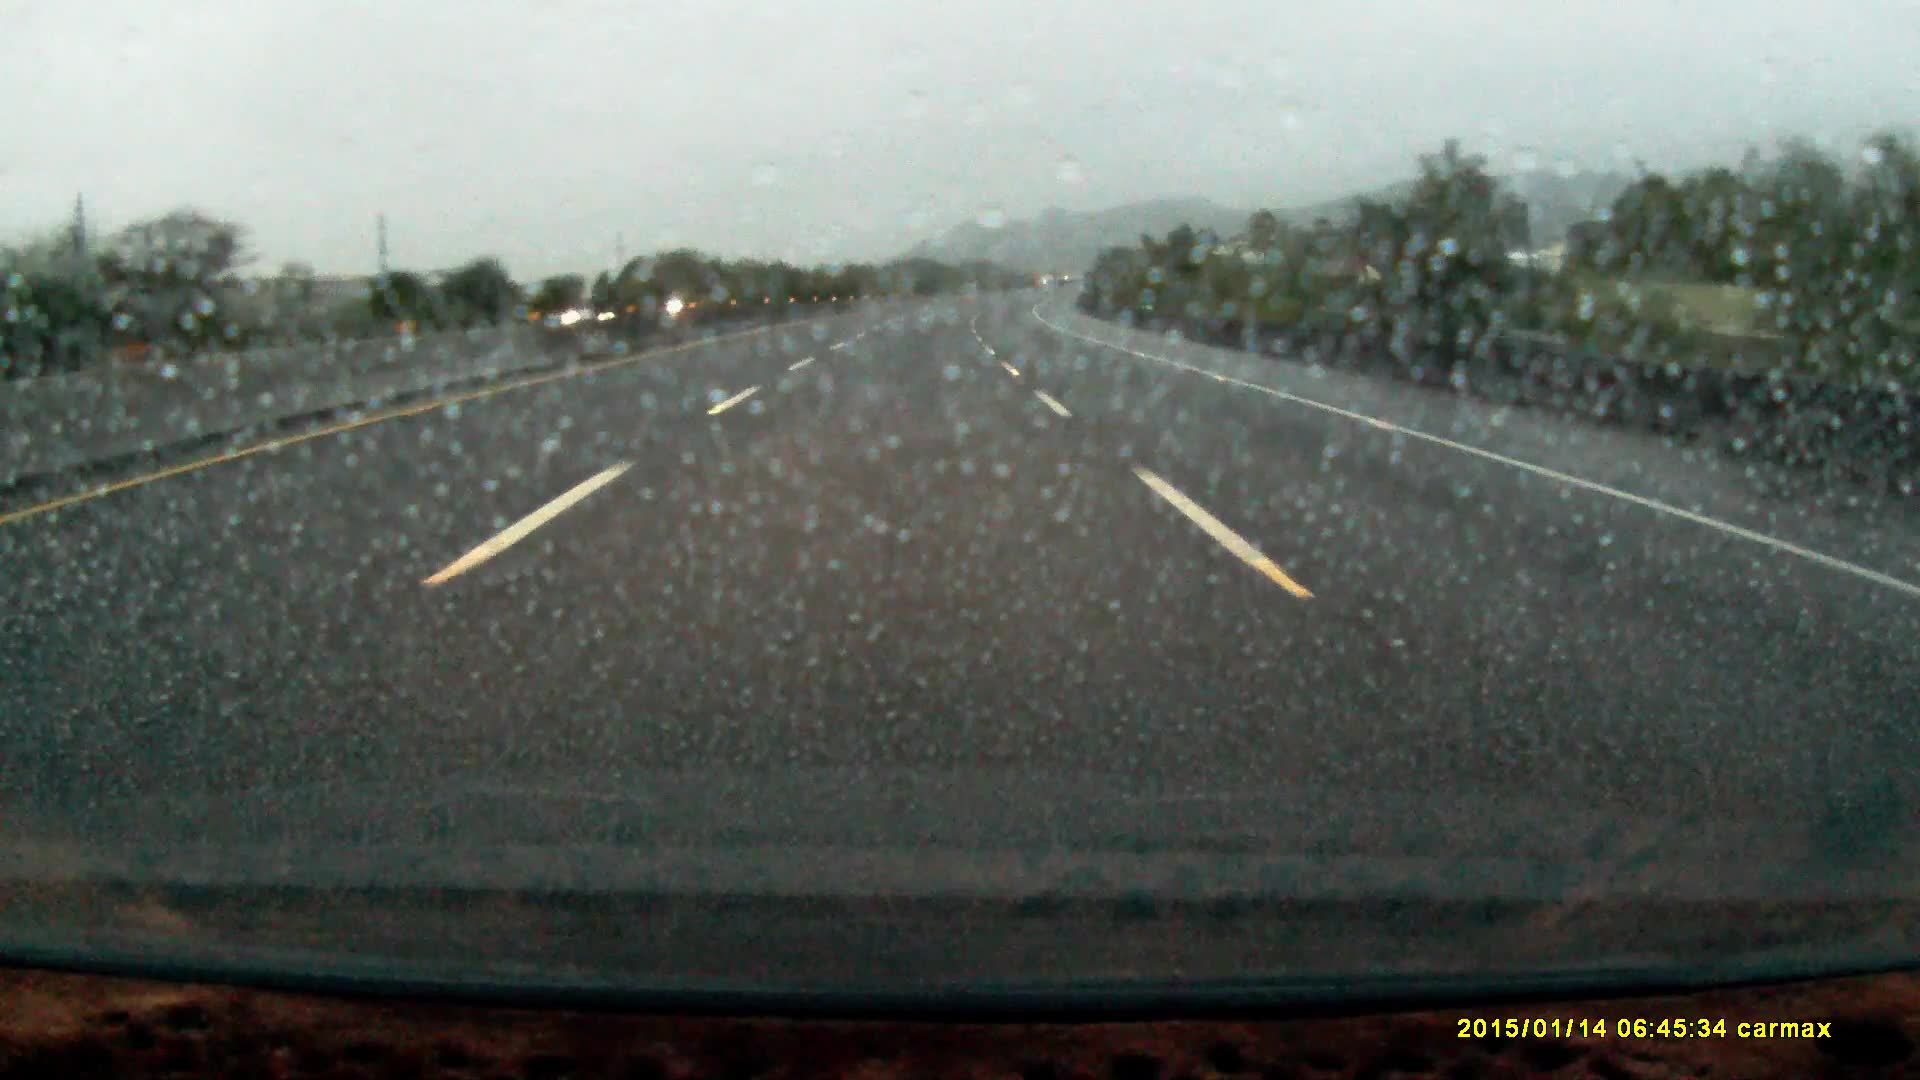vehicle: (560, 299, 640, 330), (665, 286, 729, 314)
